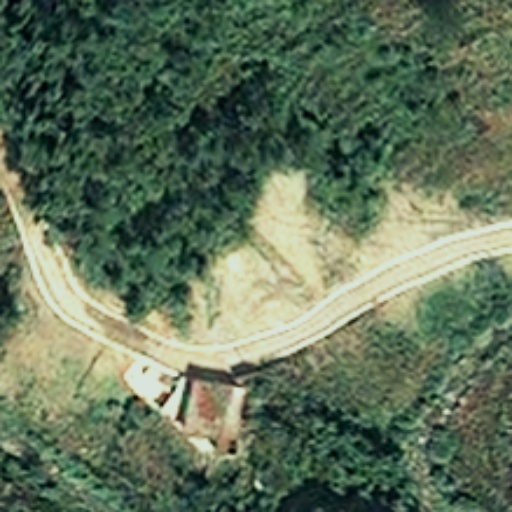landslide: (183, 170, 482, 342)
